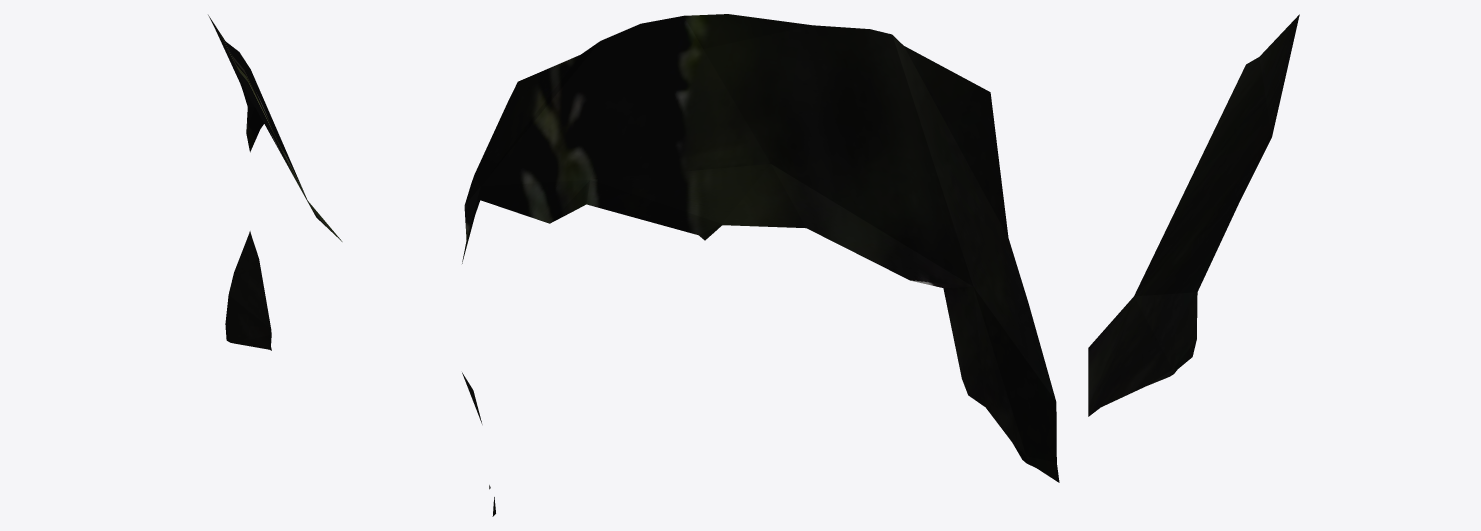
3 renders of one model, left to right at view 1: azimuth 30°, elevation 25°; view 2: azimuth 150°, elevation 25°; view 3: azimuth 270°, elevation 25°, orthographic. The views are drawn at different scales.
Bounding box in the file's own units: 0.8374 × 0.8374 × 0.8374.
Materials: 3 (3 with a texture image).
